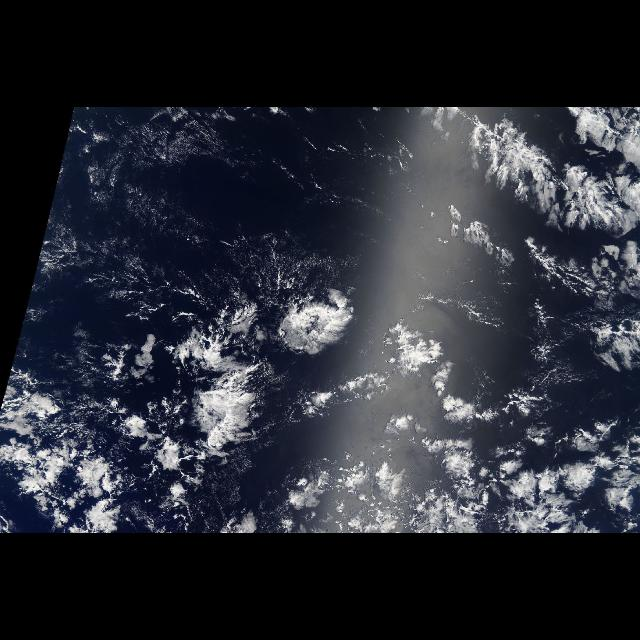Fish: (362, 108, 640, 322)
Flower: (7, 270, 638, 530)
Sugar: (50, 110, 250, 288)
